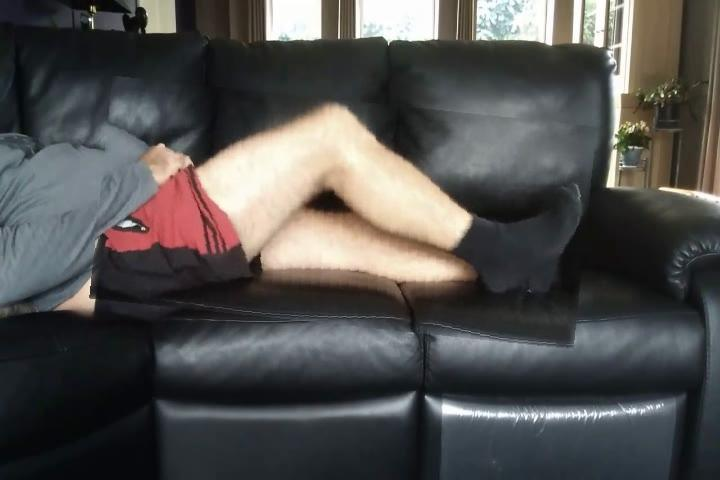lower_body: (95, 90, 592, 338)
